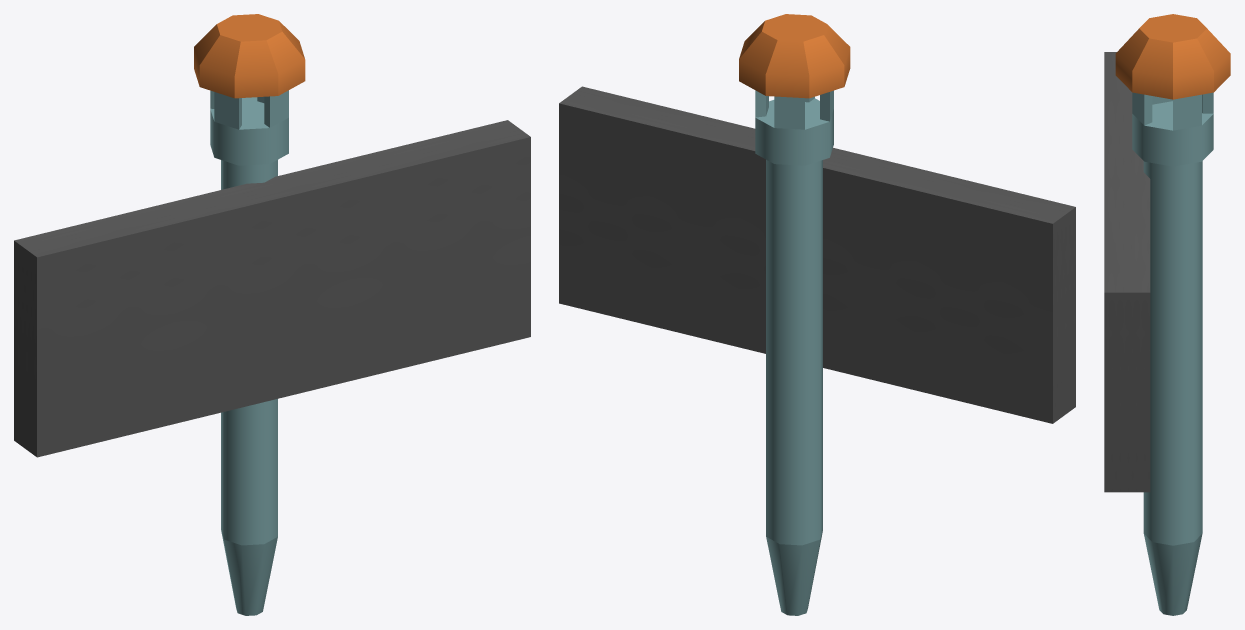
The model's file is SM_depthMarker.fbx.
3 renders of one model, left to right at view 1: azimuth 30°, elevation 25°; view 2: azimuth 150°, elevation 25°; view 3: azimuth 270°, elevation 25°, orthographic.
Visible parts, largest first — view 1: SM_depthMarker; view 2: SM_depthMarker; view 3: SM_depthMarker.
Part boxes in pixels (box(x1,y1,x2,y2)): SM_depthMarker: box(14, 14, 530, 615); SM_depthMarker: box(559, 14, 1075, 615); SM_depthMarker: box(1104, 14, 1230, 615).
Size of the model in its own units: 157 by 177 by 34.87.
Materials: 1 (1 with a texture image).
